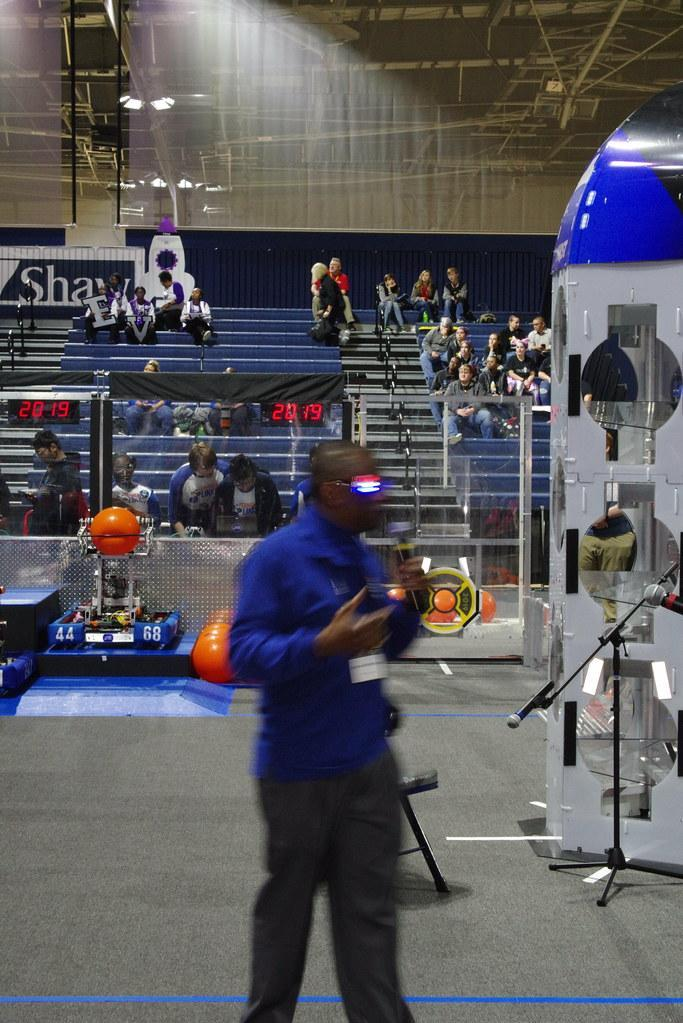robot: (46, 502, 190, 660)
